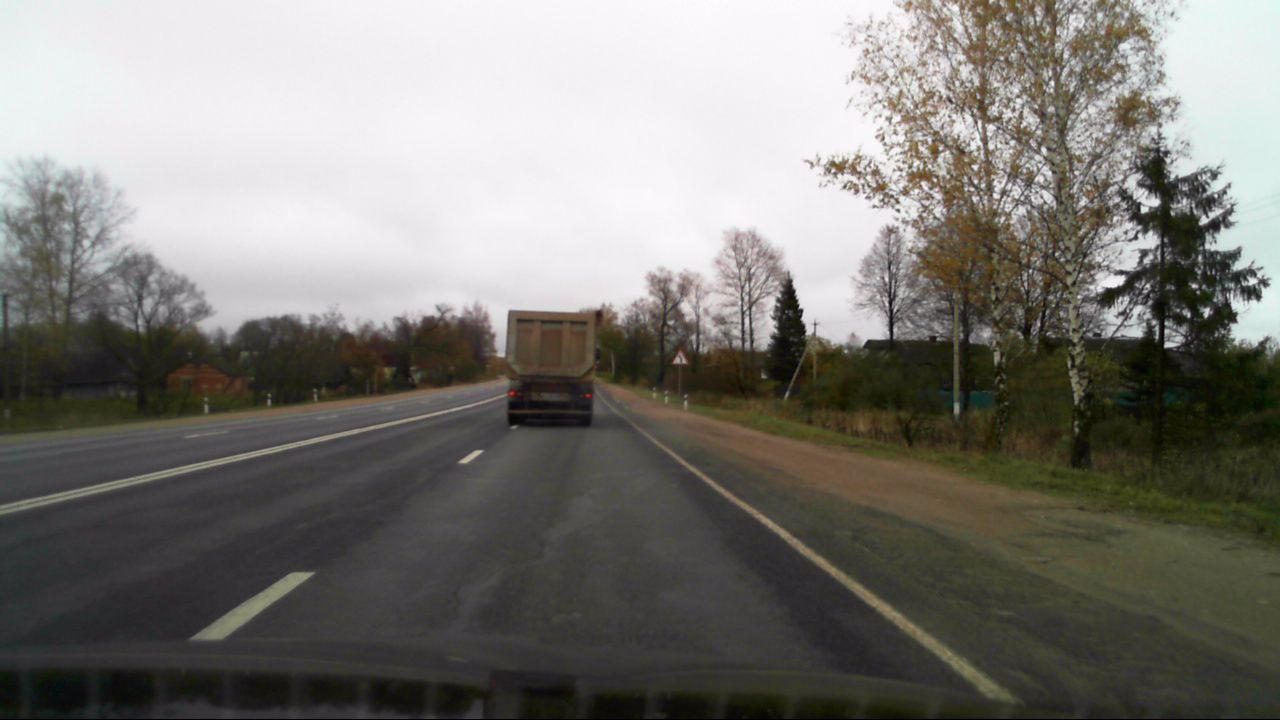1_11_2: (671, 349, 688, 365)
